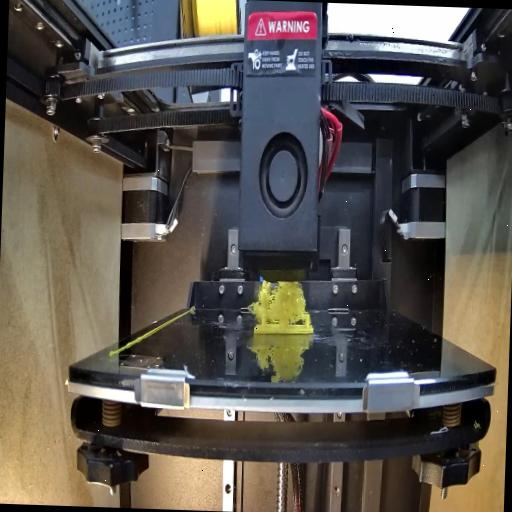spaghetti: (248, 276, 310, 323)
